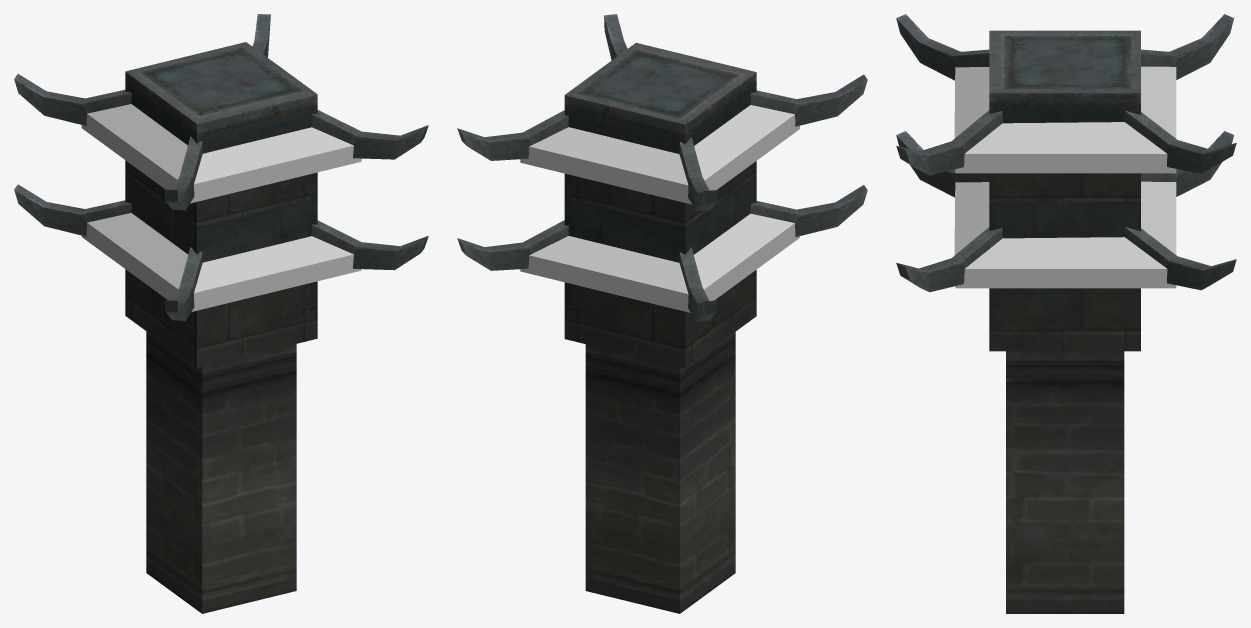
Rendered from environment_Building_shitai_002_a.FBX.
3 views of the same model, side by side, from view 1: azimuth 30°, elevation 25°; view 2: azimuth 150°, elevation 25°; view 3: azimuth 270°, elevation 25° (orthographic). The views are drawn at different scales.
Visible parts, largest first — view 1: environment_Building_shitai_002_a, environment_Building_shitai_002_b; view 2: environment_Building_shitai_002_a, environment_Building_shitai_002_b; view 3: environment_Building_shitai_002_a, environment_Building_shitai_002_b.
Part boxes in pixels (x1,y1,x2,y2): environment_Building_shitai_002_a: [14, 14, 428, 613]; environment_Building_shitai_002_b: [81, 104, 361, 311]; environment_Building_shitai_002_a: [457, 14, 867, 613]; environment_Building_shitai_002_b: [520, 105, 799, 312]; environment_Building_shitai_002_a: [896, 14, 1236, 613]; environment_Building_shitai_002_b: [954, 66, 1176, 288].
Size of the model in its own units: 283 by 511 by 299.
